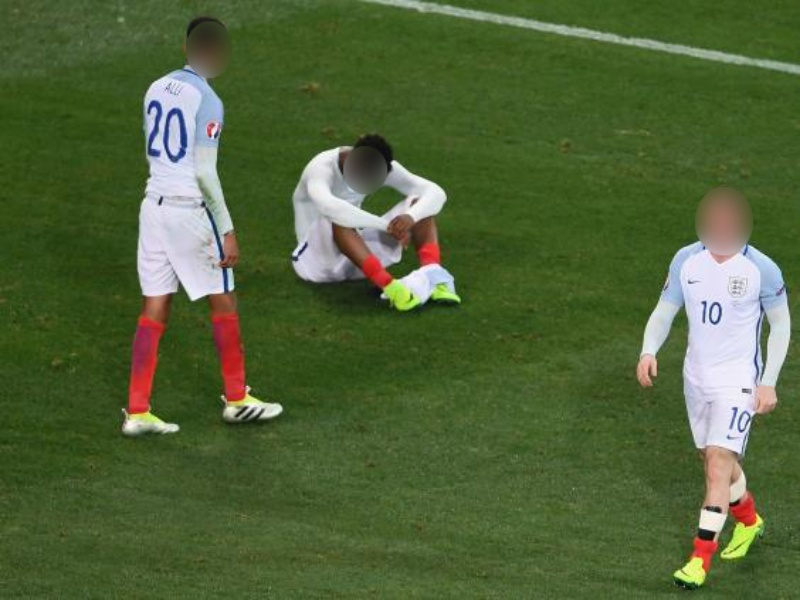text: (161, 96, 176, 165), (147, 96, 160, 165), (177, 96, 189, 165), (737, 406, 752, 435), (705, 300, 720, 327), (177, 77, 189, 103), (165, 77, 176, 103), (730, 406, 736, 435), (701, 300, 704, 327), (721, 300, 724, 327), (753, 406, 754, 435)
